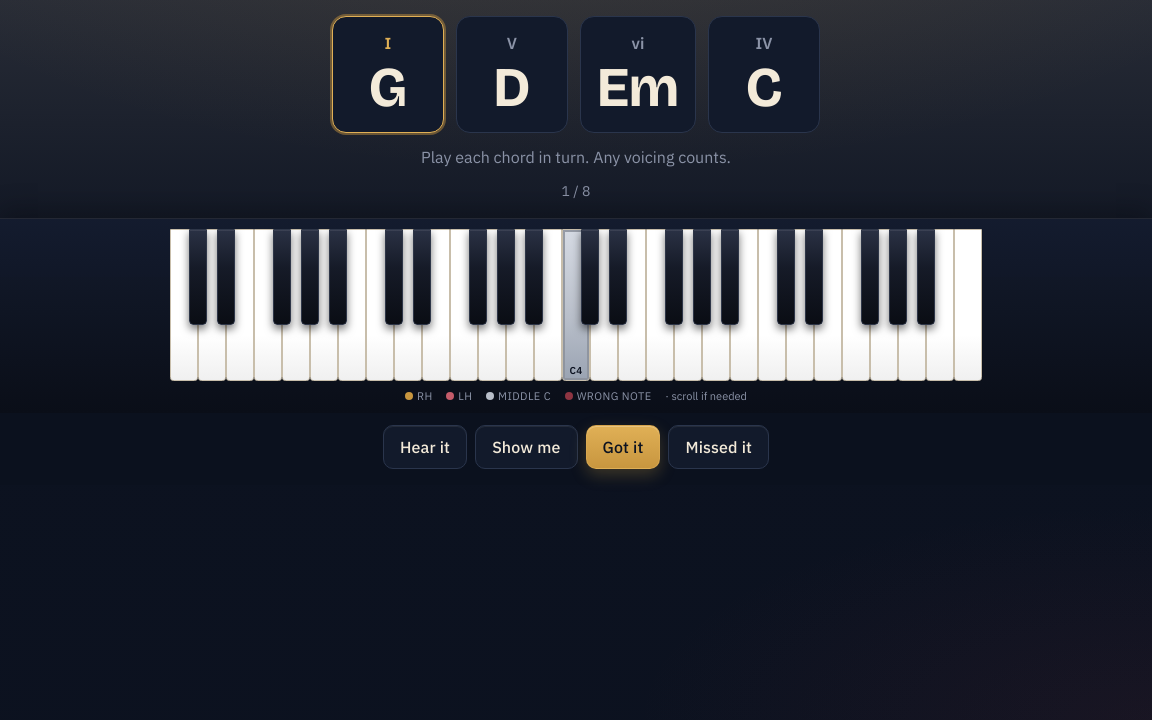
without a keyboard › "Got it" moves through a progression, then the numerals-only pass
Click the button "Got it": [623, 447] box [586,425,660,469]
Wait 600 ms
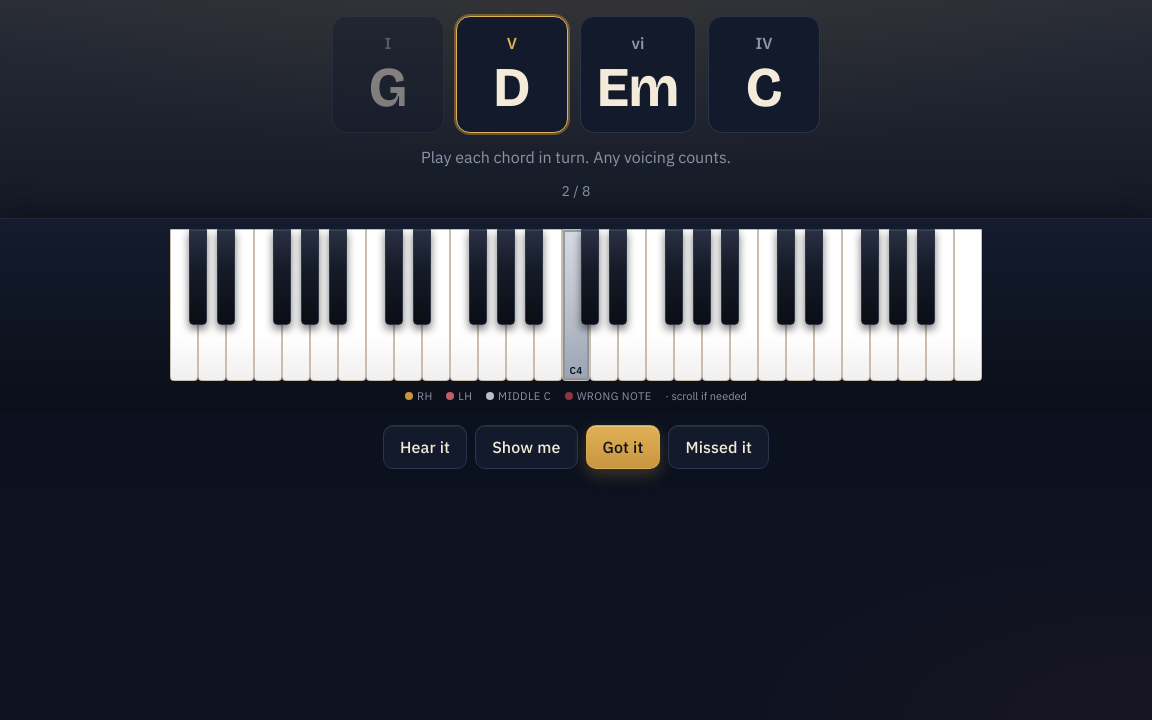
Click the button "Got it": [623, 447] box [586,425,660,469]
Wait 600 ms
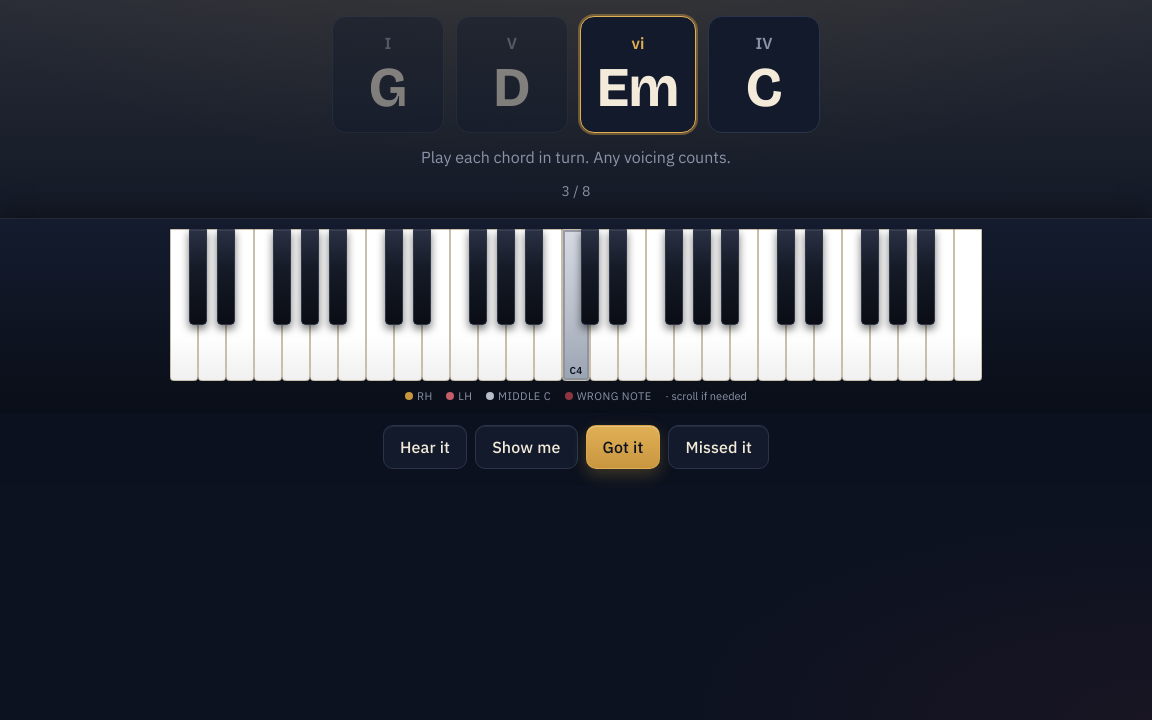
Click the button "Got it": [623, 447] box [586,425,660,469]
Wait 600 ms
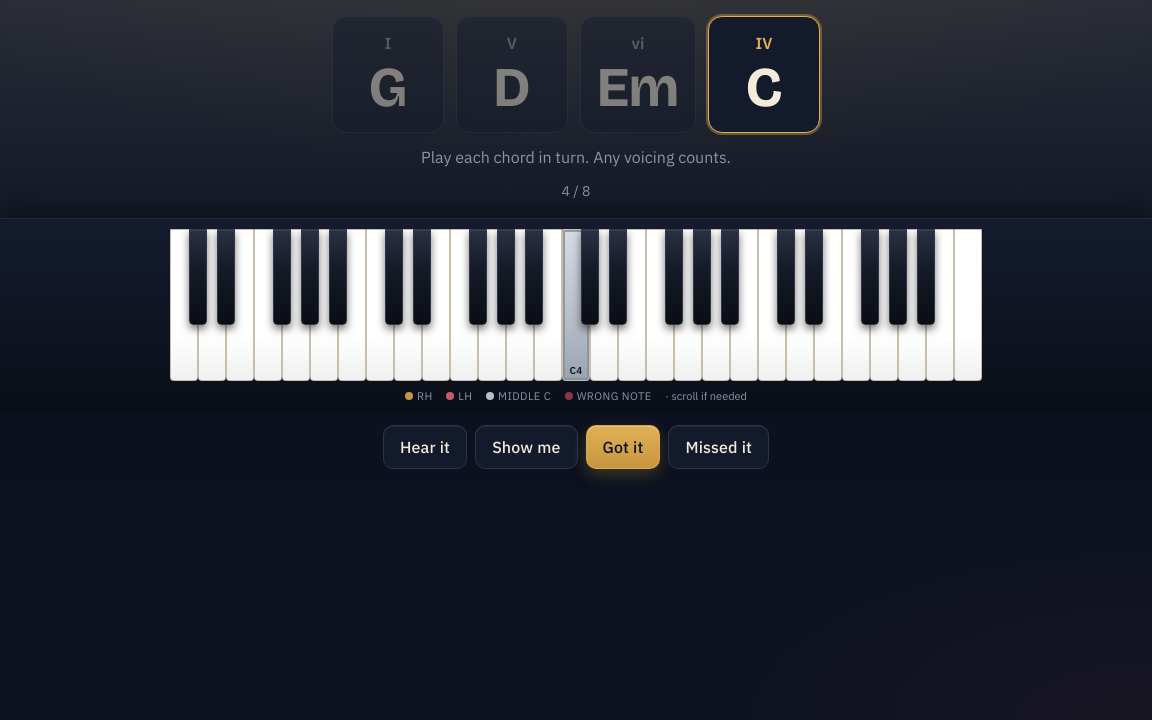
Click the button "Got it": [623, 447] box [586,425,660,469]
Wait 600 ms
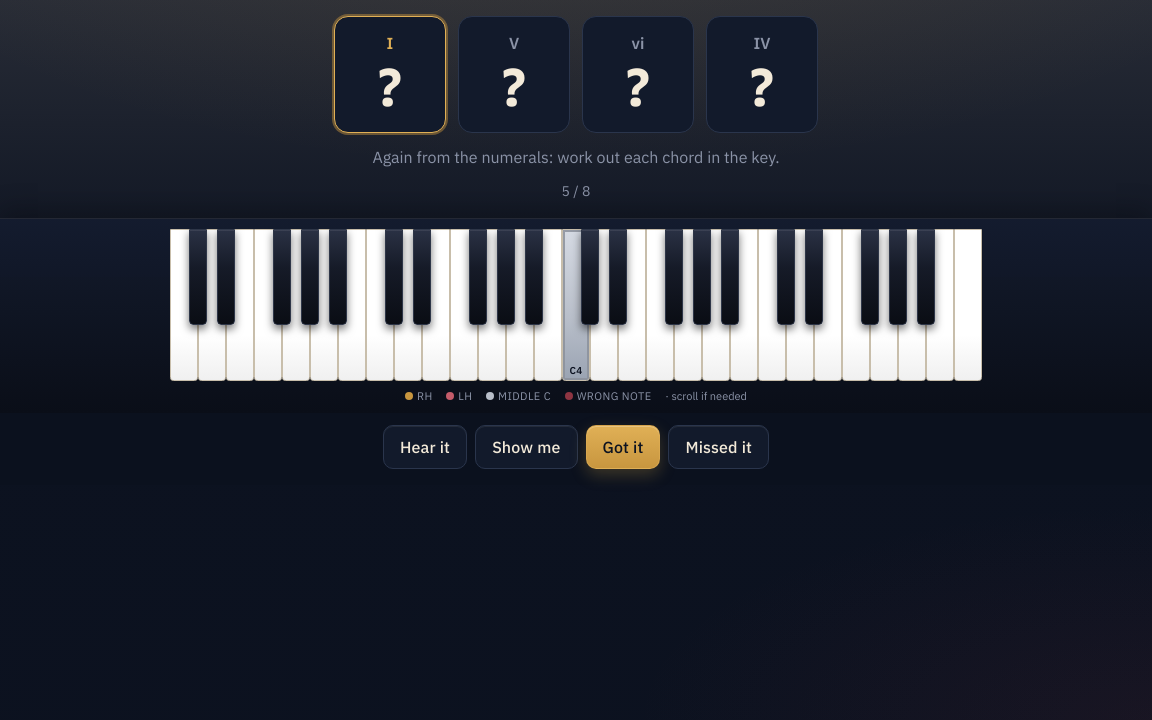
Check: the text "5 / 8" is shown, box [562,181,590,202]
